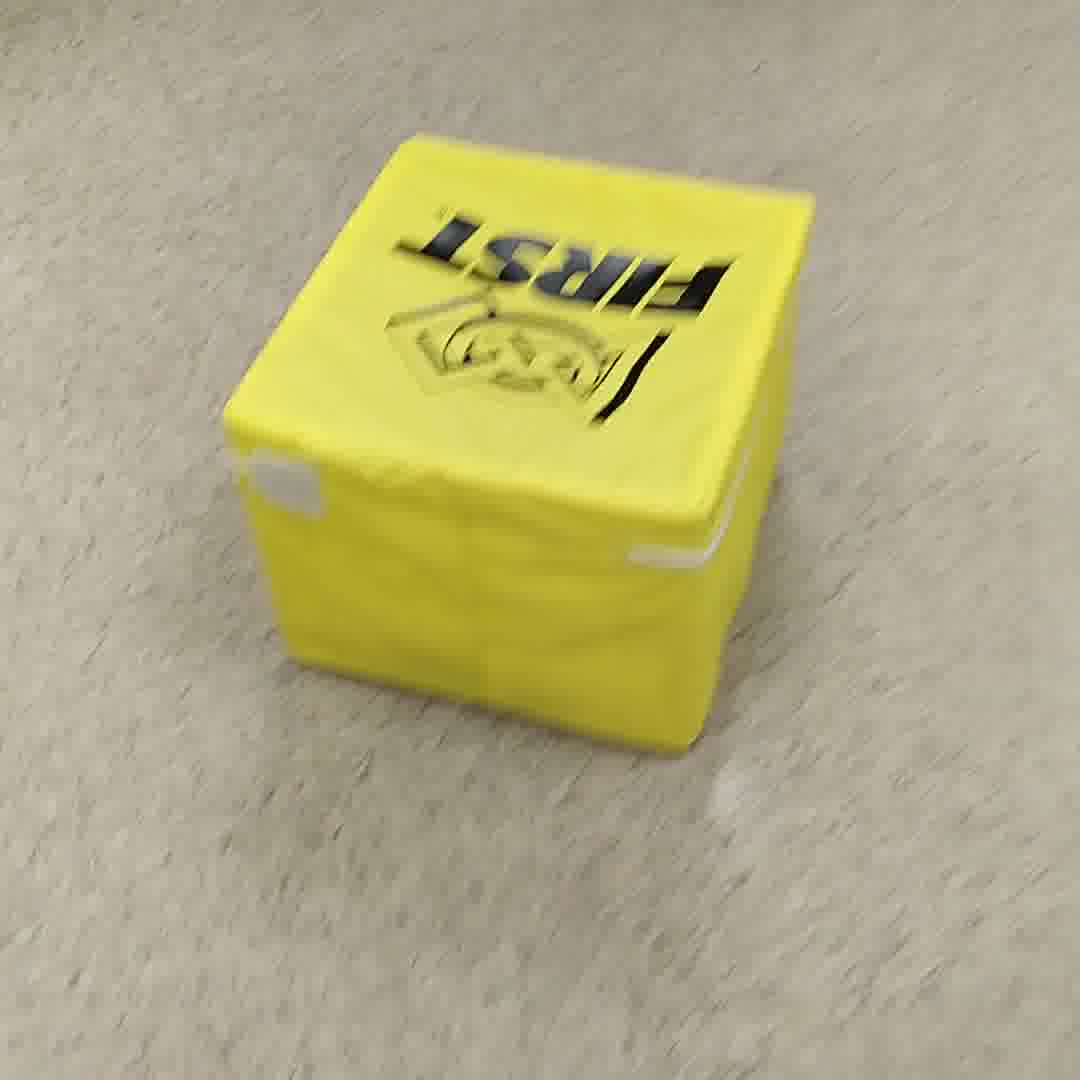box: (237, 100, 817, 767)
